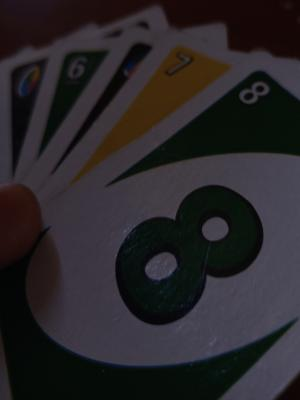num_6: (64, 50, 93, 83)
num_7: (167, 51, 199, 77)
num_8: (243, 74, 268, 108)
